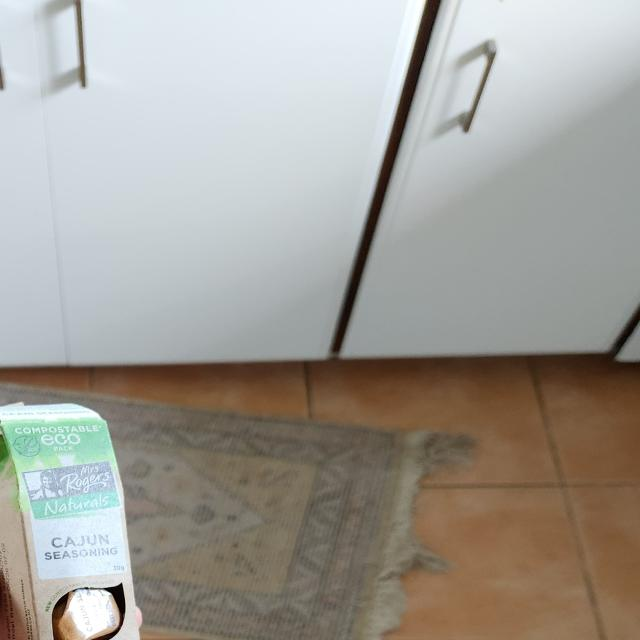cajun: (0, 403, 145, 640)
